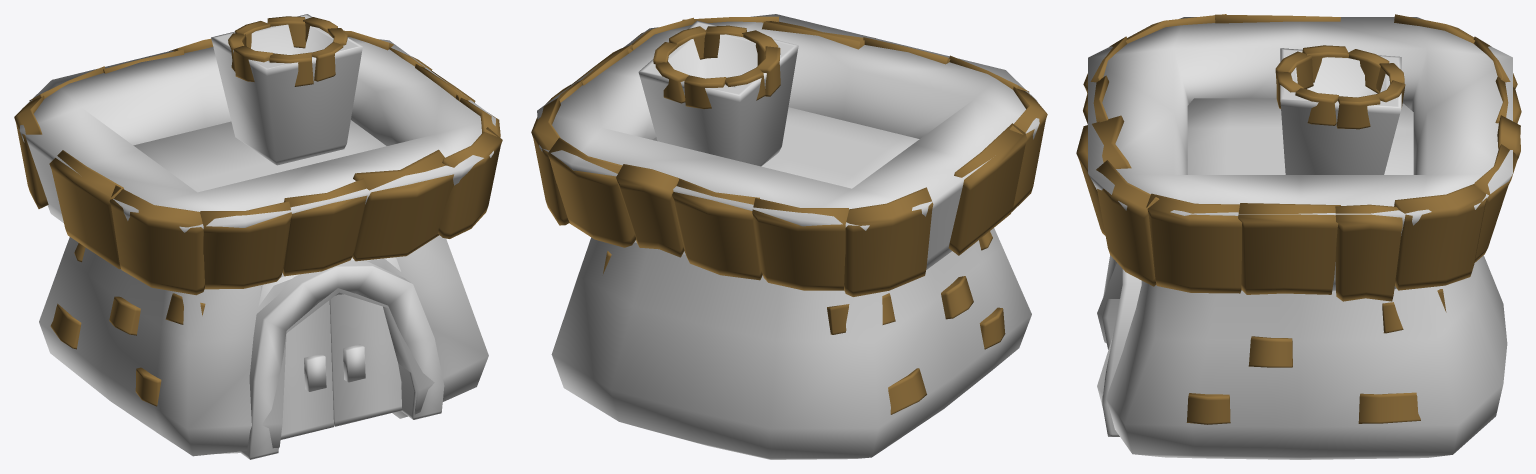
File: tower_short.fbx
3 renders of one model, left to right at view 1: azimuth 30°, elevation 25°; view 2: azimuth 150°, elevation 25°; view 3: azimuth 270°, elevation 25°, orthographic. The views are drawn at different scales.
Parts seen in each view (by area): view 1: tower_short, roof.004, doors.001, bucket, door_way, bricks_body.001, bricks, bricks_body.002, bricks_body.004, bricks_body.009, bricks_body.005, bricks.015 (+6 smaller); view 2: tower_short, roof.004, bucket, bricks_body.002, bricks_body.001, bricks_body.011, bricks_body.009, bricks_body.010, bricks.015, bricks.008, bricks, bricks.010 (+7 smaller); view 3: tower_short, roof.004, bucket, bricks_body.001, bricks_body.007, bricks_body.006, bricks_body.008, bricks.015, bricks_body.005, door_way, bricks_body.002, bricks (+10 smaller).
Boxes of the visible parts, x1,y1,x2,y2 form: tower_short: [39, 120, 488, 456]; roof.004: [19, 37, 495, 232]; doors.001: [258, 257, 402, 439]; bucket: [211, 14, 362, 165]; door_way: [239, 260, 444, 459]; bricks_body.001: [14, 30, 393, 295]; bricks: [352, 149, 453, 261]; bricks_body.002: [29, 66, 291, 289]; bricks_body.004: [282, 178, 367, 276]; bricks_body.009: [49, 150, 124, 269]; bricks_body.005: [437, 127, 502, 238]; bricks.015: [50, 243, 205, 406]; tower_short: [551, 107, 1031, 459]; roof.004: [537, 14, 1039, 269]; bucket: [638, 20, 798, 166]; bricks_body.002: [547, 55, 1029, 290]; bricks_body.001: [531, 86, 1047, 296]; bricks_body.011: [672, 178, 762, 280]; bricks_body.009: [948, 123, 1027, 255]; bricks_body.010: [616, 164, 684, 257]; bricks.015: [603, 231, 1005, 414]; bricks.008: [684, 75, 726, 109]; bricks: [762, 21, 875, 49]; bricks.010: [756, 46, 780, 96]; tower_short: [1097, 98, 1507, 459]; roof.004: [1088, 17, 1512, 290]; bucket: [1280, 48, 1401, 174]; bricks_body.001: [1126, 14, 1487, 290]; bricks_body.007: [1238, 203, 1340, 294]; bricks_body.006: [1146, 193, 1241, 293]; bricks_body.008: [1335, 204, 1402, 301]; bricks.015: [1186, 289, 1446, 424]; bricks_body.005: [1096, 160, 1159, 286]; door_way: [1102, 255, 1141, 436]; bricks_body.002: [1083, 36, 1517, 262]; bricks: [1076, 115, 1131, 235].
Size of the model in its own units: 482 by 384 by 442.
